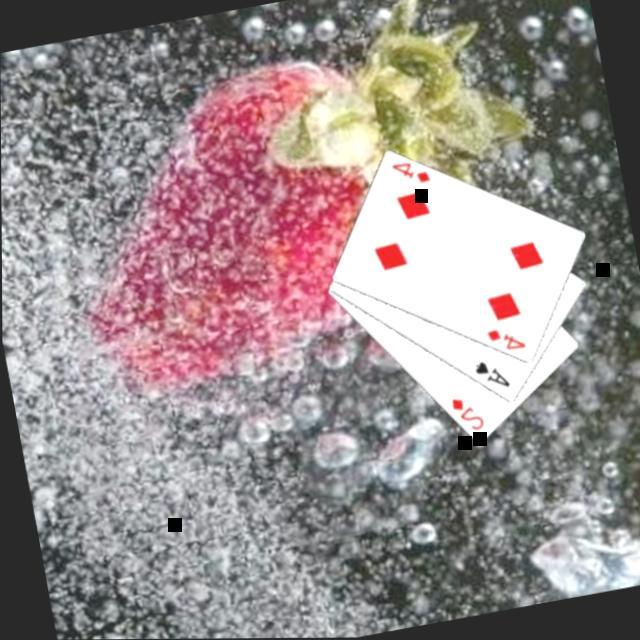2D: (444, 392, 485, 440)
4D: (384, 155, 432, 193), (480, 323, 528, 360)
AS: (467, 356, 511, 398)
